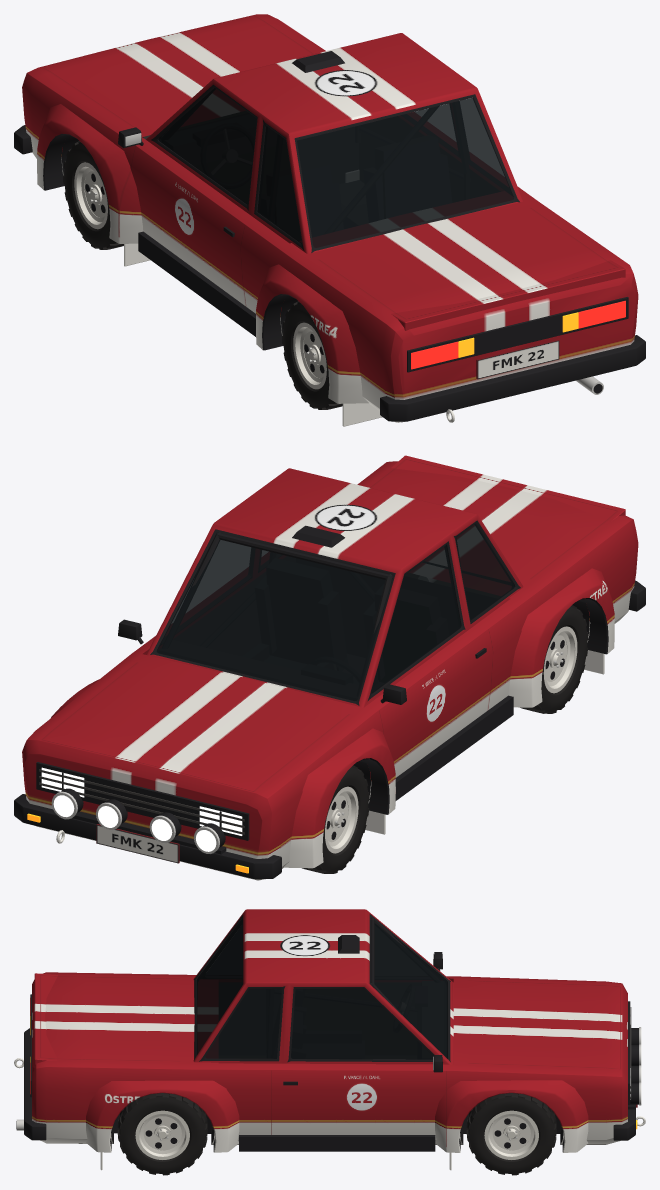
File: CAR-017_Export.fbx
3 views of the same model, one above another, from view 1: azimuth 30°, elevation 25°; view 2: azimuth 150°, elevation 25°; view 3: azimuth 270°, elevation 25° (orthographic). The views are drawn at different scales.
Visible parts, largest first — view 1: CAR-017_Body, CAR-017_Glass, CAR-017_Bumper_Rear, CAR-017_Trim, CAR-017_Lights, CAR-017_Spoiler, CAR-017_Wheel_RL_Tire, CAR-017_Wheel_FL_Tire, CAR-017_Wheel_RL_Rim, CAR-017_Wheel_FL_Rim, CAR-017_MudFlaps; view 2: CAR-017_Body, CAR-017_Glass, CAR-017_Trim, CAR-017_Lights, CAR-017_Bumper_Front, CAR-017_Spoiler, CAR-017_Wheel_RL_Tire, CAR-017_Wheel_FL_Tire, CAR-017_Interior, CAR-017_Wheel_RL_Rim, CAR-017_Wheel_FL_Rim, CAR-017_Mirrors (+1 smaller); view 3: CAR-017_Body, CAR-017_Glass, CAR-017_Trim, CAR-017_Wheel_FR_Tire, CAR-017_Wheel_RR_Tire, CAR-017_Wheel_FR_Rim, CAR-017_Wheel_RR_Rim, CAR-017_Spoiler, CAR-017_Lights, CAR-017_Bumper_Rear, CAR-017_Interior, CAR-017_Bumper_Front.
Boxes of the visible parts, <box> form: CAR-017_Body: <box>22,14,638,422</box>; CAR-017_Glass: <box>158,88,513,247</box>; CAR-017_Bumper_Rear: <box>380,335,645,421</box>; CAR-017_Trim: <box>138,51,603,422</box>; CAR-017_Lights: <box>407,297,628,372</box>; CAR-017_Spoiler: <box>391,260,625,330</box>; CAR-017_Wheel_RL_Tire: <box>282,301,342,409</box>; CAR-017_Wheel_FL_Tire: <box>63,141,123,249</box>; CAR-017_Wheel_RL_Rim: <box>293,322,326,389</box>; CAR-017_Wheel_FL_Rim: <box>74,162,107,229</box>; CAR-017_MudFlaps: <box>124,243,382,426</box>; CAR-017_Body: <box>22,461,638,880</box>; CAR-017_Glass: <box>157,524,514,701</box>; CAR-017_Trim: <box>36,525,513,863</box>; CAR-017_Lights: <box>27,767,248,873</box>; CAR-017_Bumper_Front: <box>14,794,281,879</box>; CAR-017_Spoiler: <box>391,455,625,521</box>; CAR-017_Wheel_RL_Tire: <box>520,605,588,713</box>; CAR-017_Wheel_FL_Tire: <box>302,765,369,873</box>; CAR-017_Interior: <box>191,532,392,633</box>; CAR-017_Wheel_RL_Rim: <box>543,626,577,693</box>; CAR-017_Wheel_FL_Rim: <box>325,786,358,853</box>; CAR-017_Mirrors: <box>118,619,406,704</box>; CAR-017_Body: <box>32,909,627,1152</box>; CAR-017_Glass: <box>196,918,447,1059</box>; CAR-017_Trim: <box>14,935,645,1151</box>; CAR-017_Wheel_FR_Tire: <box>466,1093,556,1175</box>; CAR-017_Wheel_RR_Tire: <box>117,1093,207,1175</box>; CAR-017_Wheel_FR_Rim: <box>484,1110,538,1159</box>; CAR-017_Wheel_RR_Rim: <box>135,1110,189,1159</box>; CAR-017_Spoiler: <box>34,973,58,1065</box>; CAR-017_Lights: <box>30,994,641,1129</box>; CAR-017_Bumper_Rear: <box>24,1028,46,1140</box>; CAR-017_Interior: <box>277,916,405,1059</box>; CAR-017_Bumper_Front: <box>613,1109,635,1140</box>.
Bounding box in the file's own units: 1.8 × 1.41 × 4.35.
17 materials, 2 textured.
